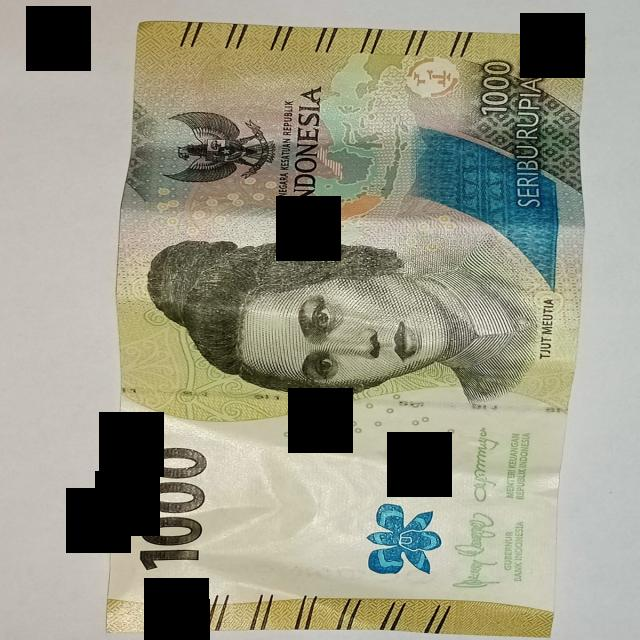seribu rupiah: (107, 22, 585, 636)
